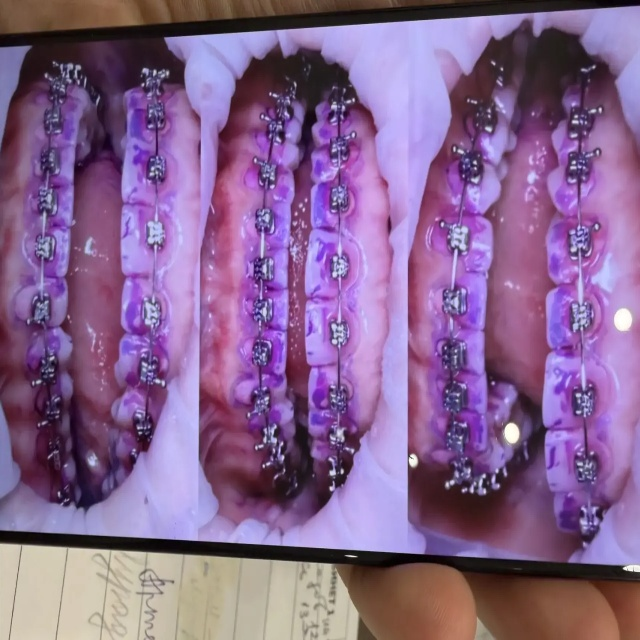clean_tooth: (0, 544, 357, 639)
plaque: (0, 5, 639, 563), (0, 45, 26, 141)
